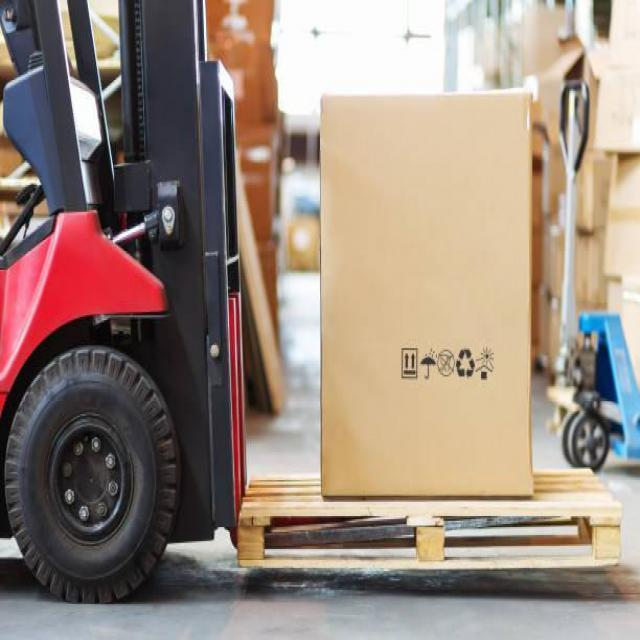box: (314, 84, 542, 507)
